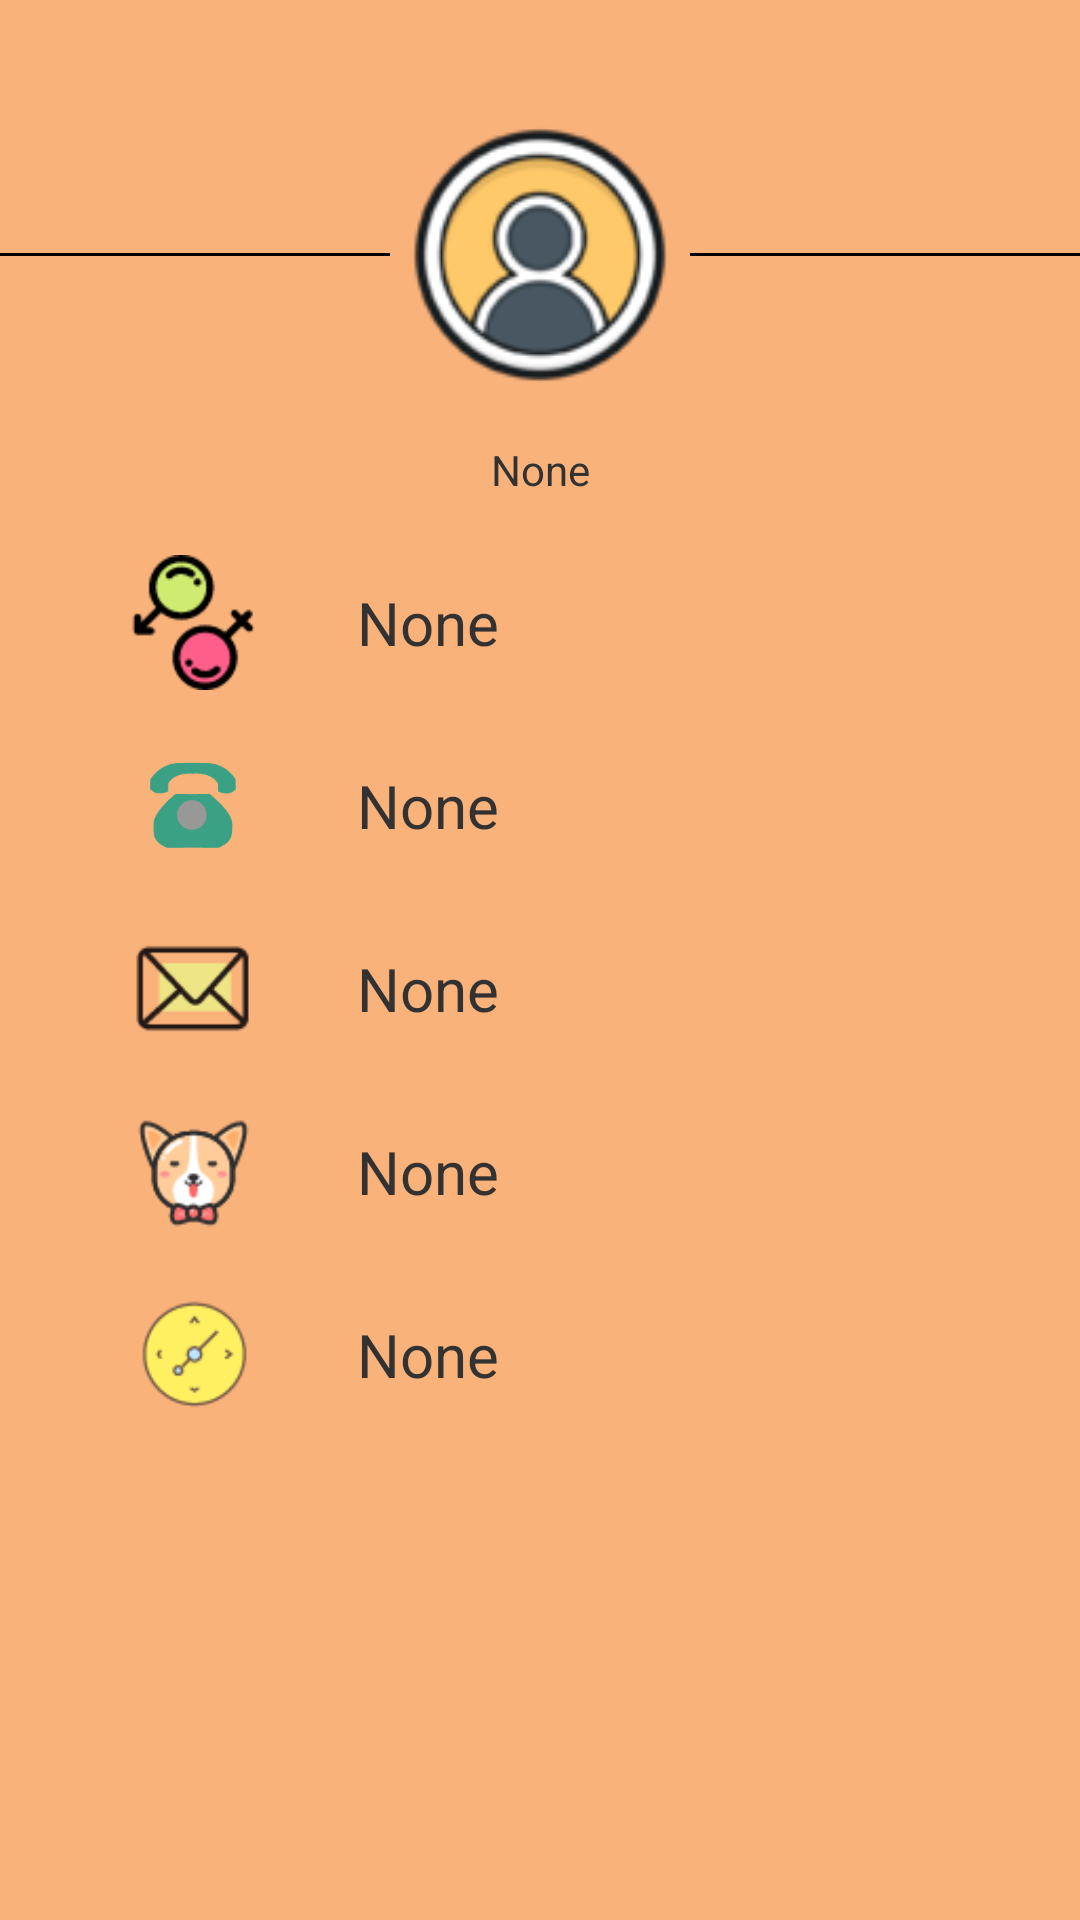

Named icons in this screenshot (1080w x 1920h) and their bounding boxes, (x1=x1, y1=y1, x2=x2, y2=y2):
yonghu: (x1=414, y1=129, x2=666, y2=381)
